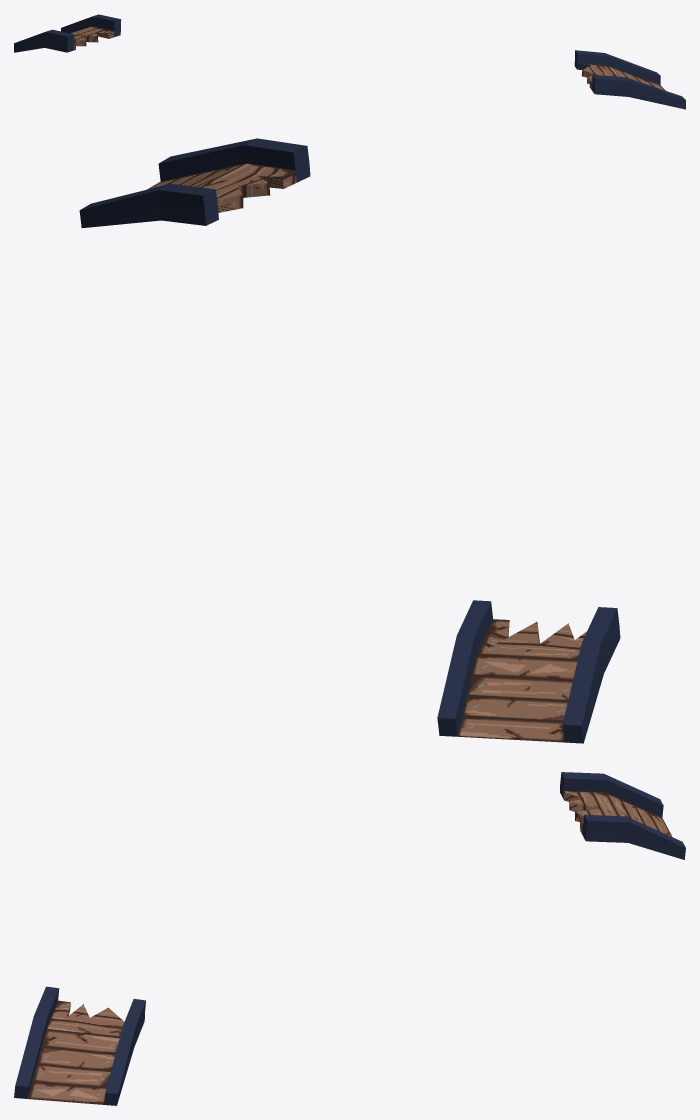
File: Puente Roto.fbx
3 views of the same model, one above another, from view 1: azimuth 30°, elevation 25°; view 2: azimuth 150°, elevation 25°; view 3: azimuth 270°, elevation 25° (orthographic). The views are drawn at different scales.
Visible parts, largest first — view 1: Puente Roto; view 2: Puente Roto; view 3: Puente Roto.
Part boxes in pixels (bbox=[...]): Puente Roto: bbox=[14, 14, 685, 109]; Puente Roto: bbox=[79, 138, 620, 743]; Puente Roto: bbox=[14, 772, 685, 1105].
Bounding box in the file's own units: 15031 × 14130 × 1718.
2 materials, 2 textured.
